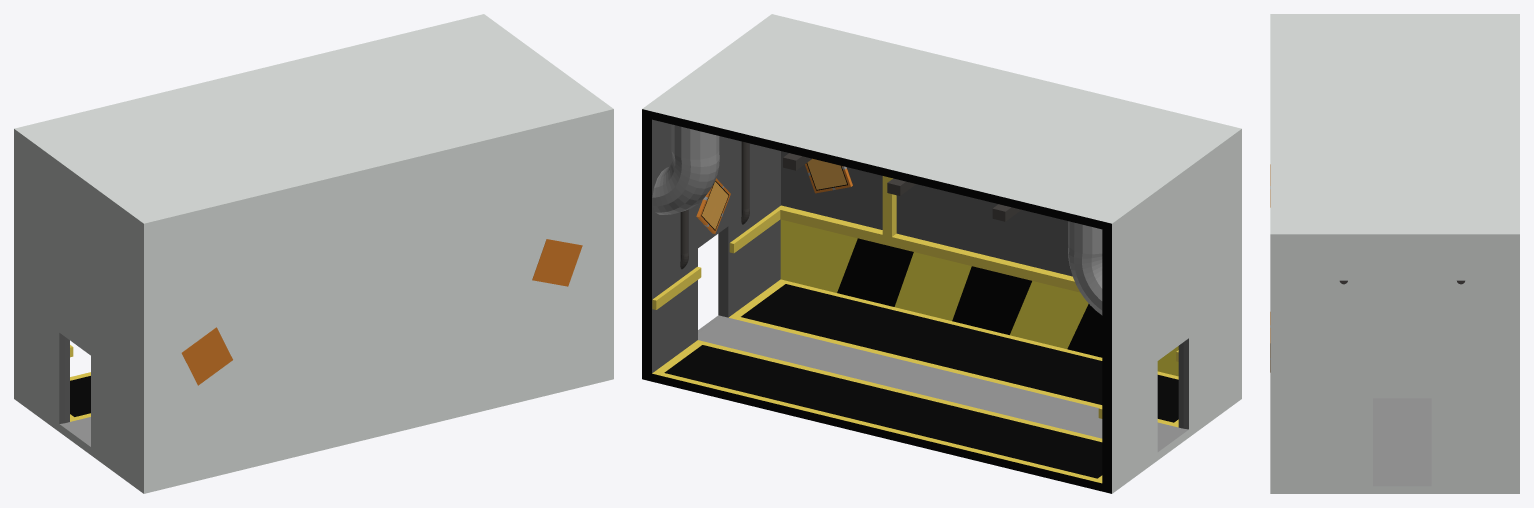
Rendered from Hallway2.fbx.
3 renders of one model, left to right at view 1: azimuth 30°, elevation 25°; view 2: azimuth 150°, elevation 25°; view 3: azimuth 270°, elevation 25°, orthographic. The views are drawn at different scales.
Parts seen in each view (by area): view 1: Hall2; view 2: Hall2; view 3: Hall2.
Boxes of the visible parts, box(x1,y1,x2,y2) form: Hall2: box(14, 14, 613, 493); Hall2: box(642, 14, 1241, 493); Hall2: box(1270, 14, 1519, 493).
Bounding box in the file's own units: 1806 × 992 × 865.
